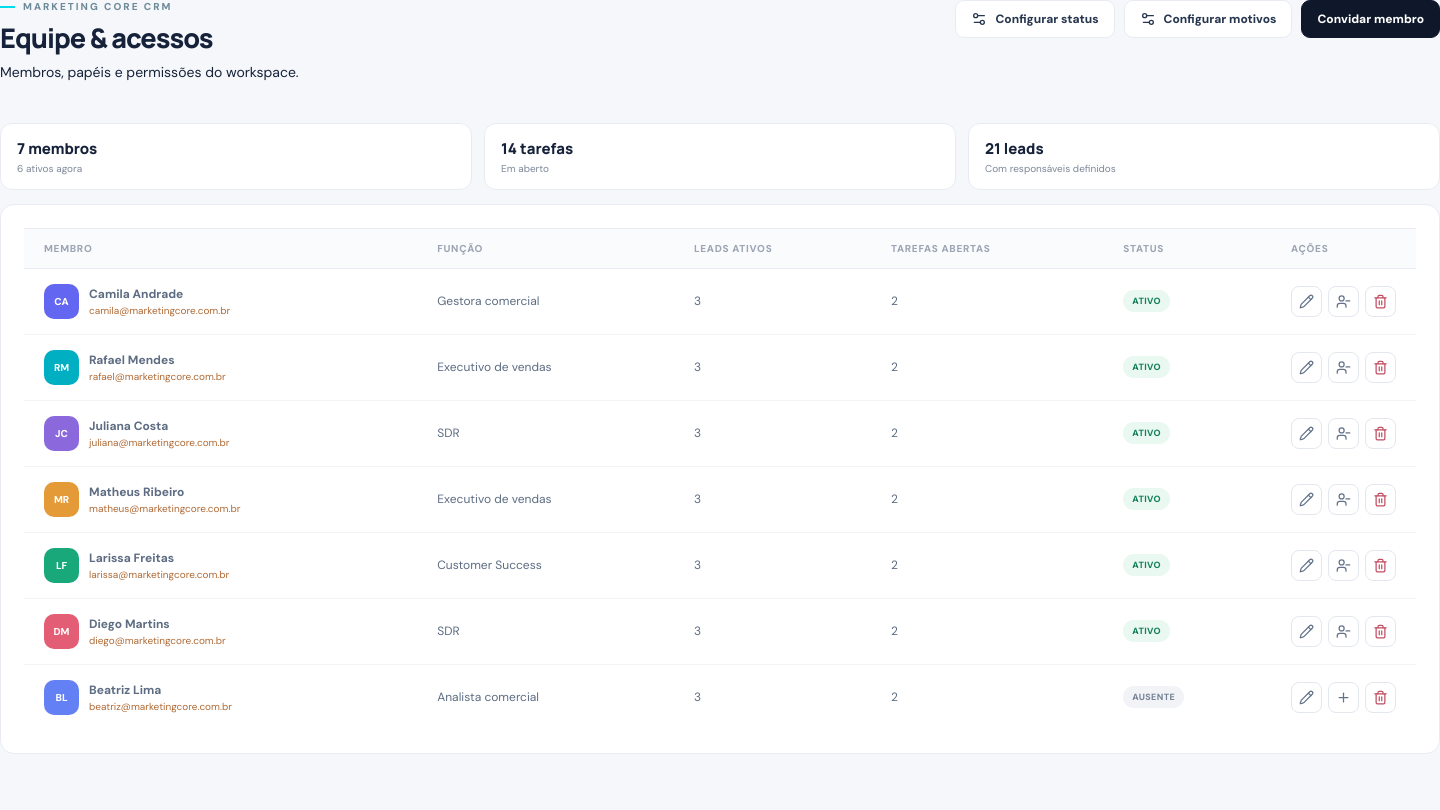
it: TeamPage administração › abre a configuração dos motivos de inativação
What coordinates should you click on to do the following:
click the button "Configurar motivos"
I would click on:
 (1208, 19)
Its box is left=1124, top=0, right=1292, bottom=38.
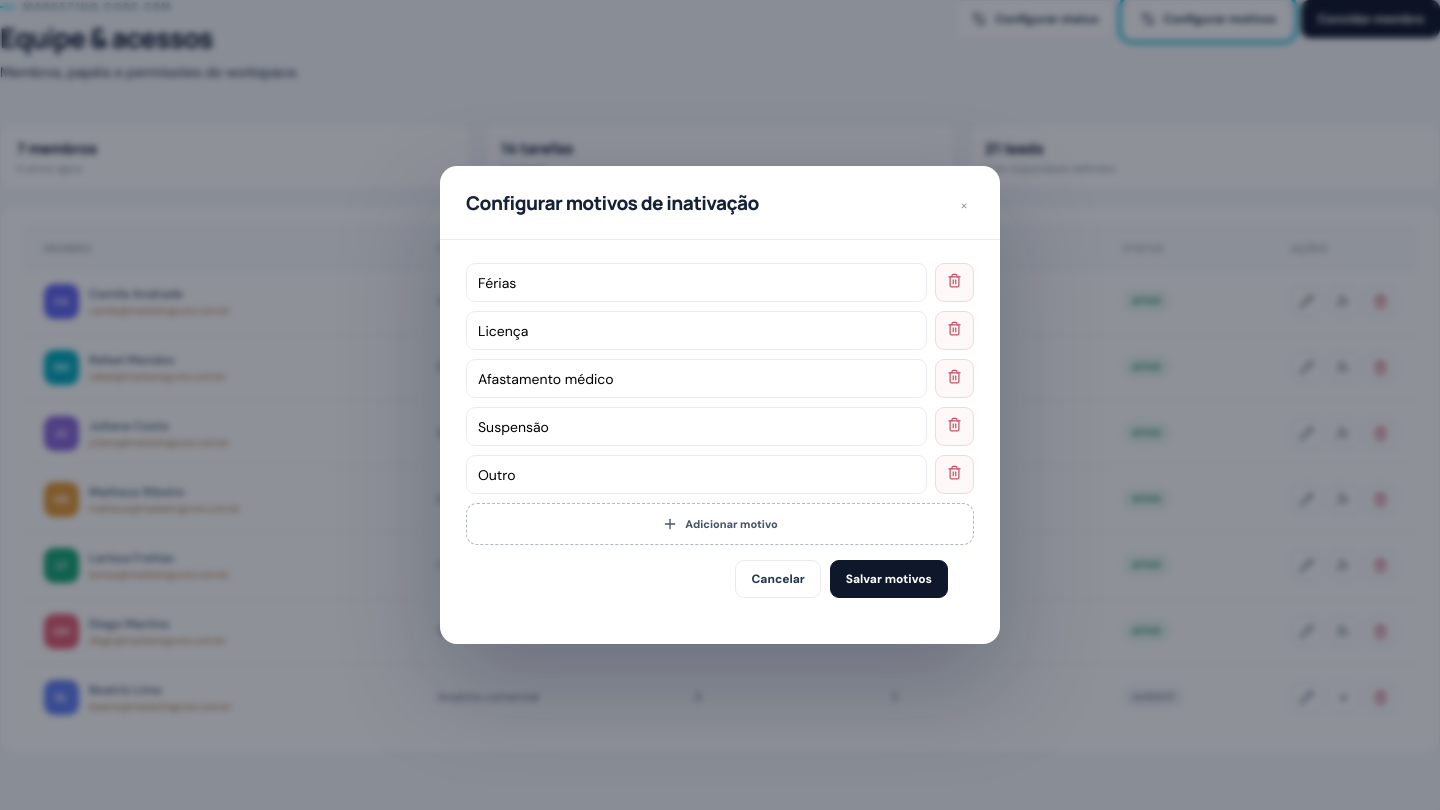
Expected: the dialog "Configurar motivos de inativação" is shown, left=440, top=166, right=1000, bottom=644
